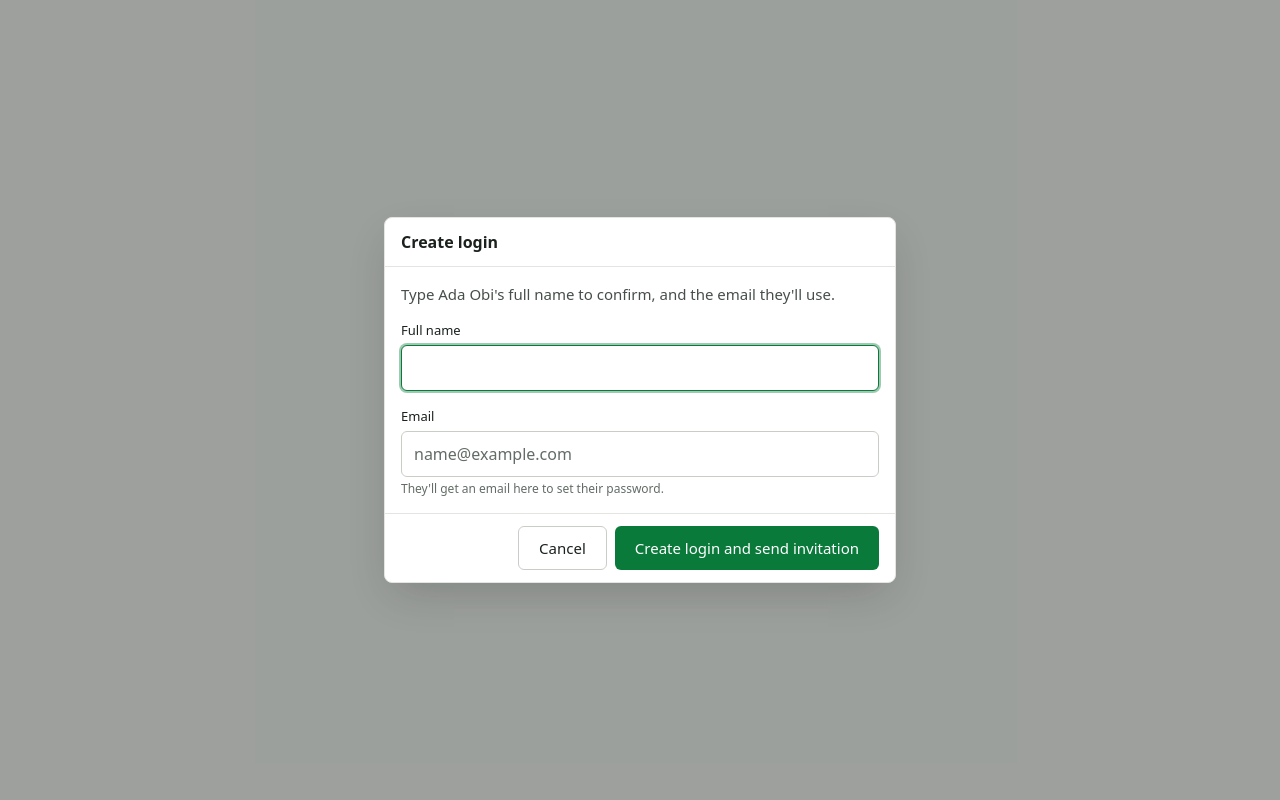
Test: CreateLoginDialog › needs a valid email as well
The width and height of the screenshot is (1280, 800).
Type "Ada Obi" into the field labelled "Full name" at (640, 368), box [401,345,879,391]
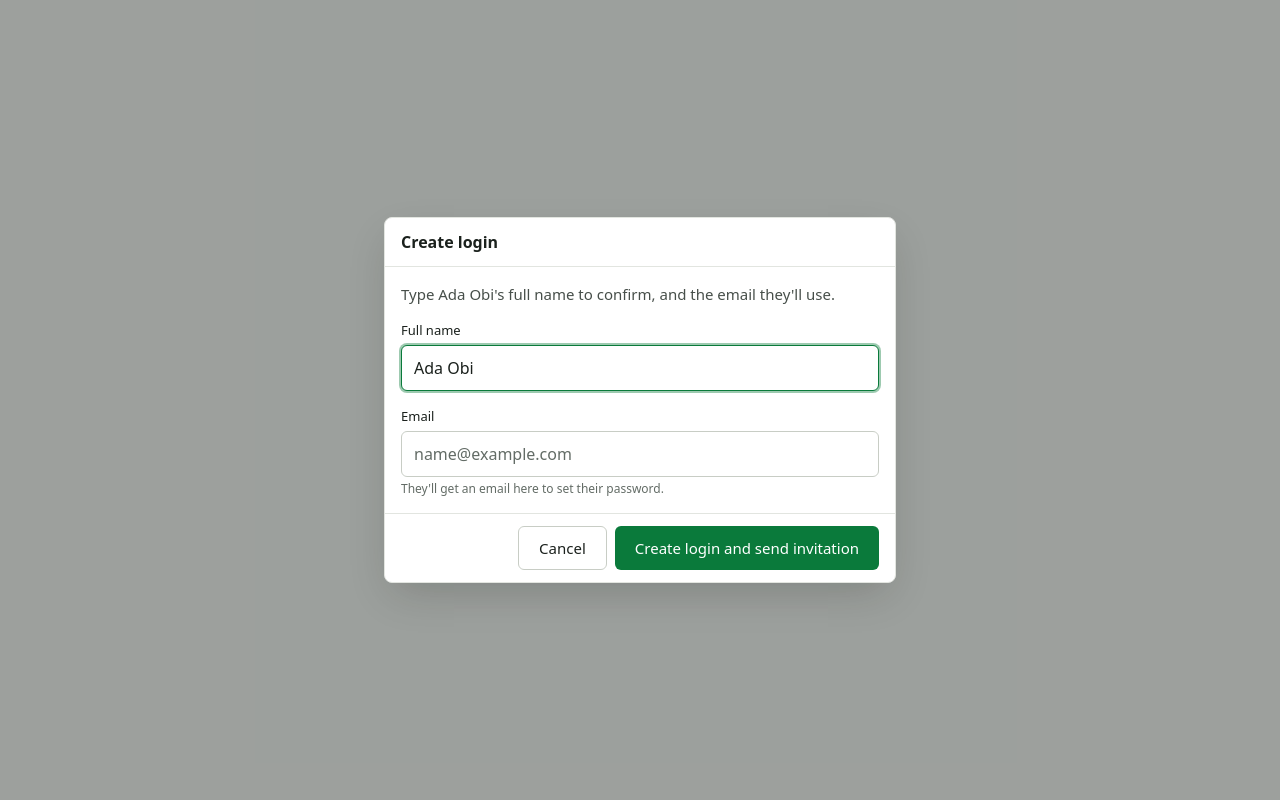
Type "not-an-email" into the field labelled "Email" at (640, 454), box [401,431,879,477]
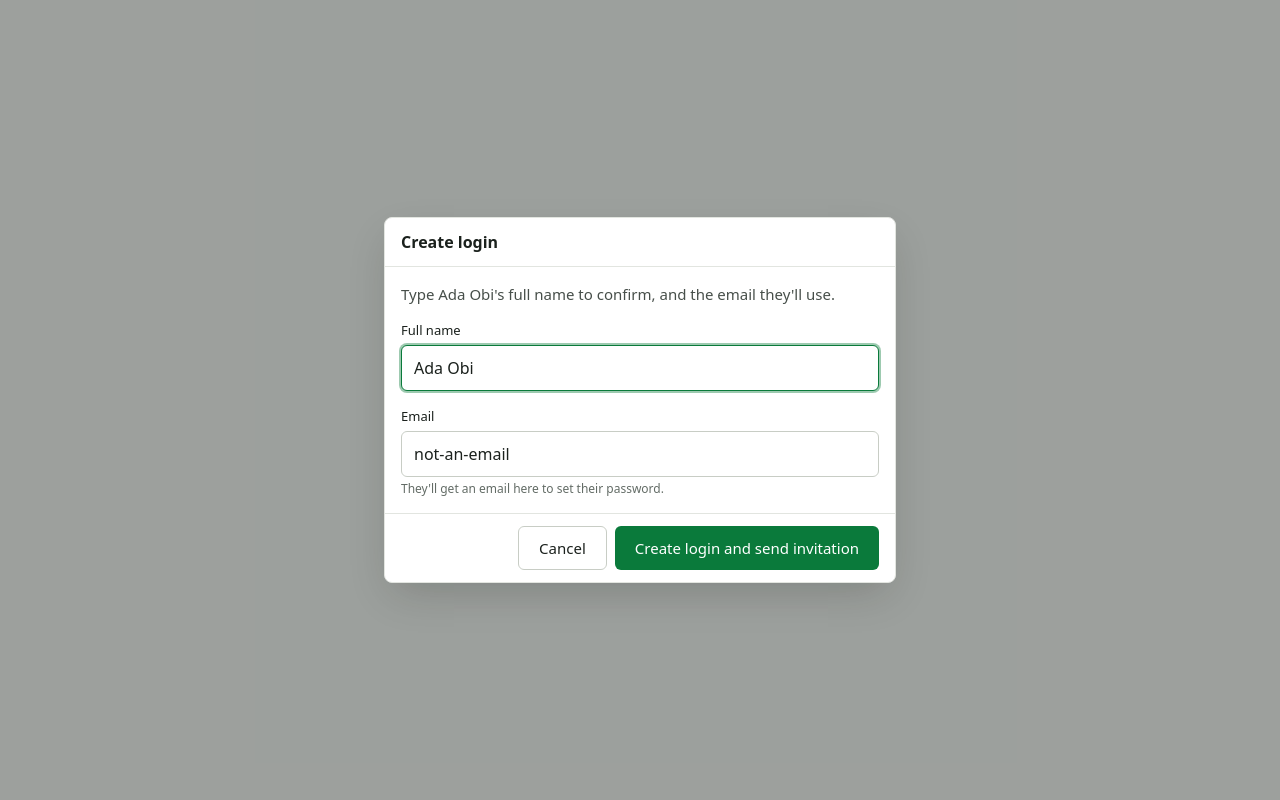
Click the button "Create login and send invitation" at (747, 548), box [615,526,879,570]
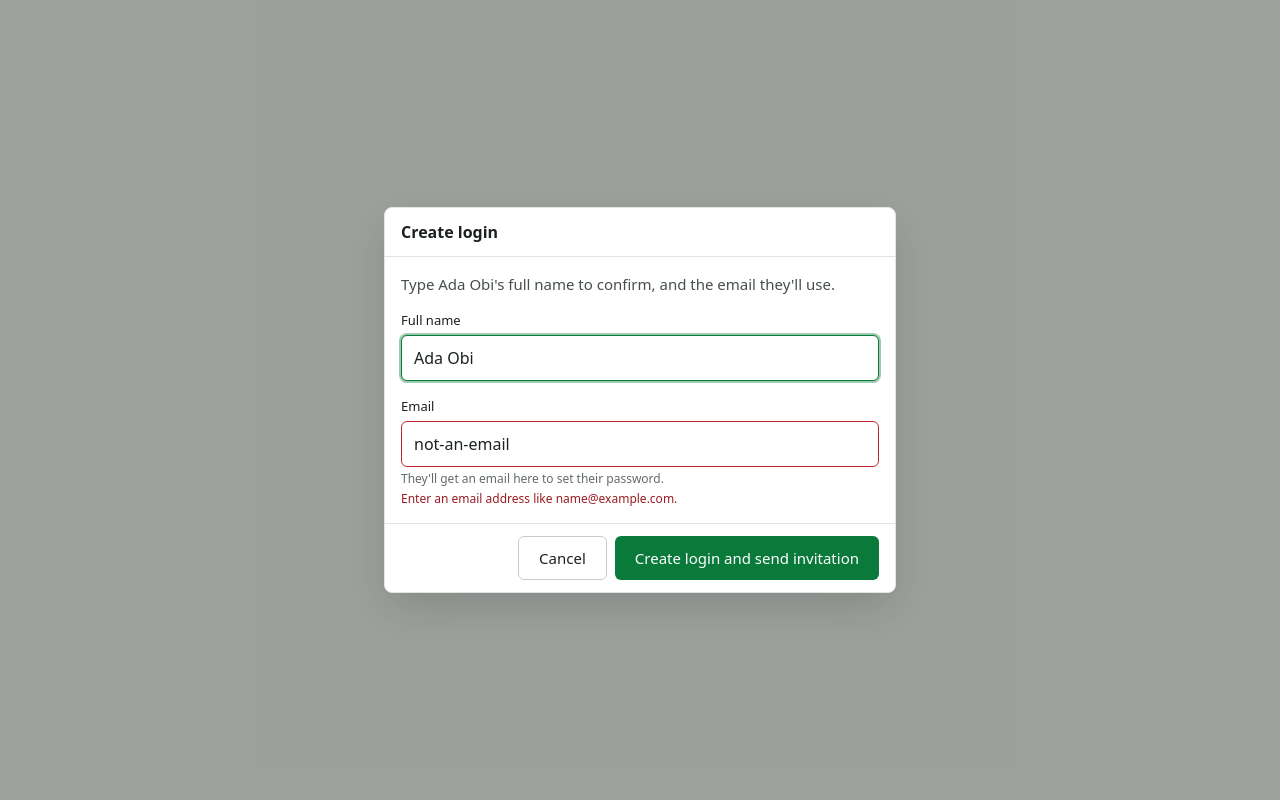
Now the text "Enter an email address like name@example.com." is shown, box [401,490,677,507]
